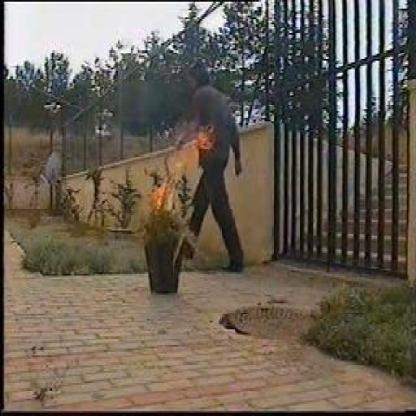foggia-v2-map80-epoch100 - v1 4323: (148, 137, 208, 211)
